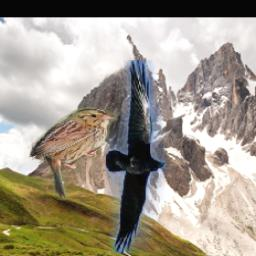Crow: (106, 60, 166, 254)
Sparrow: (28, 107, 117, 201)
